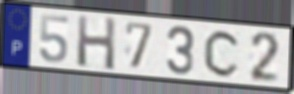2: (248, 30, 281, 85)
3: (165, 23, 196, 75)
5: (38, 12, 70, 64)
7: (123, 20, 155, 71)
C: (202, 28, 243, 79)
H: (75, 14, 117, 73)
